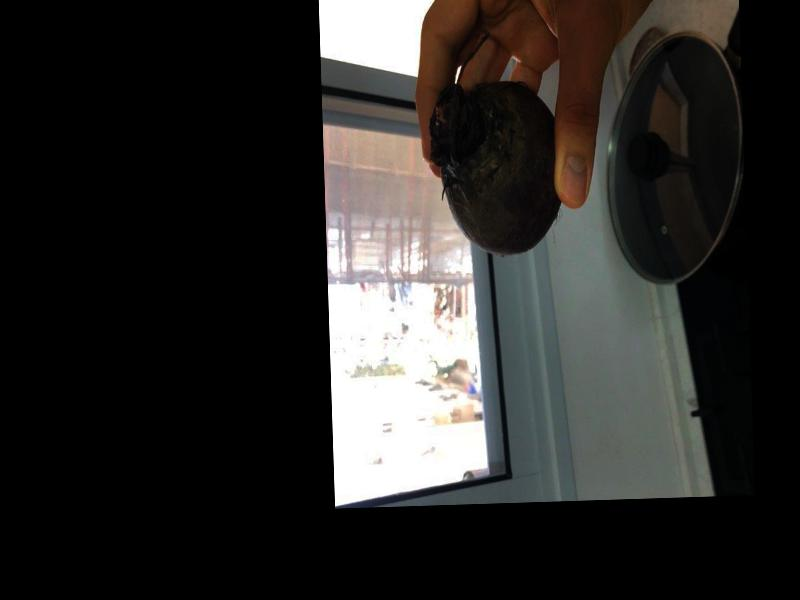Beet: (425, 29, 564, 258)
